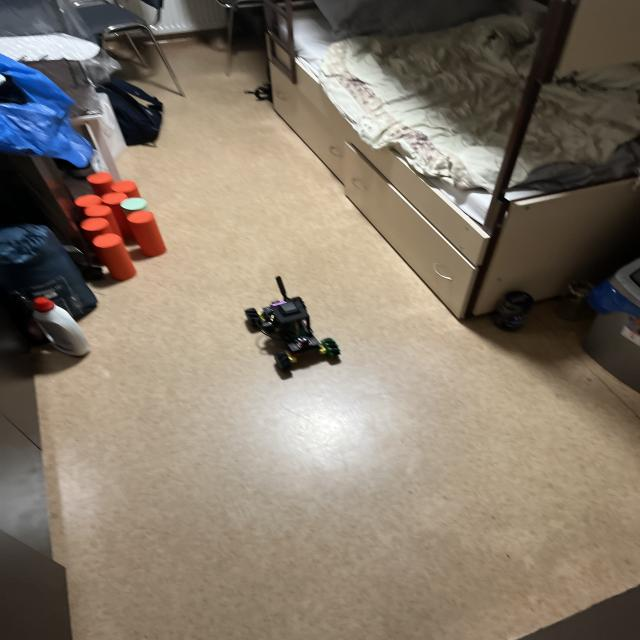robot: (245, 276, 340, 373)
